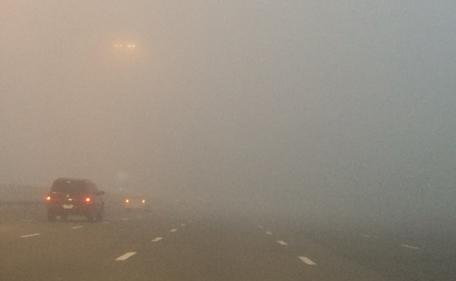car: (45, 177, 106, 224), (122, 188, 155, 213)
